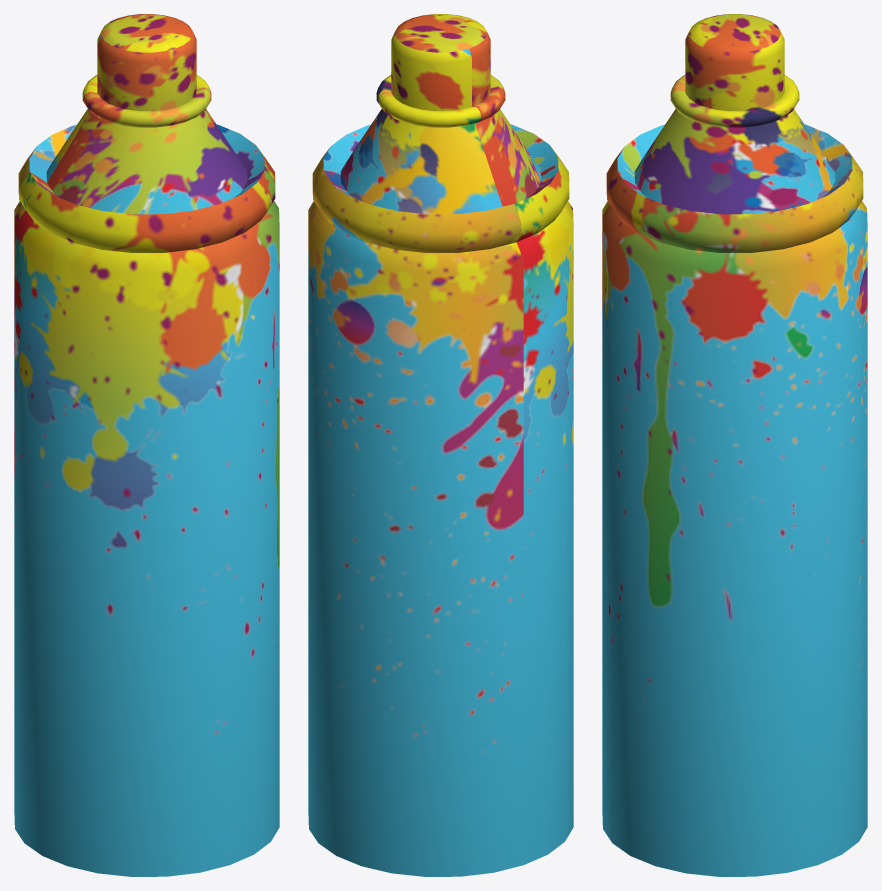
Rendered from Sprey_Blue.fbx.
3 views of the same model, side by side, from view 1: azimuth 30°, elevation 25°; view 2: azimuth 150°, elevation 25°; view 3: azimuth 270°, elevation 25° (orthographic).
Parts seen in each view (by area): view 1: Spray_Blue_Texture; view 2: Spray_Blue_Texture; view 3: Spray_Blue_Texture.
Boxes of the visible parts, box(x1,y1,x2,y2) form: Spray_Blue_Texture: box(14, 14, 279, 876); Spray_Blue_Texture: box(308, 14, 573, 876); Spray_Blue_Texture: box(602, 14, 867, 876).
Size of the model in its own units: 17.59 by 57.93 by 17.59.
Materials: 1 (1 with a texture image).
